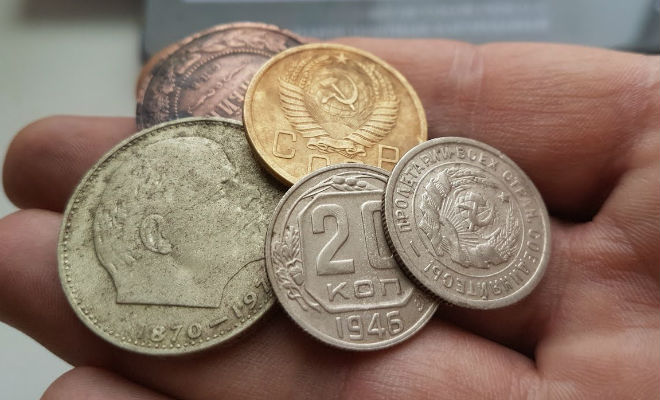coin: (56, 114, 293, 357), (265, 161, 452, 352), (380, 136, 553, 312), (243, 41, 427, 198), (134, 20, 302, 122)
